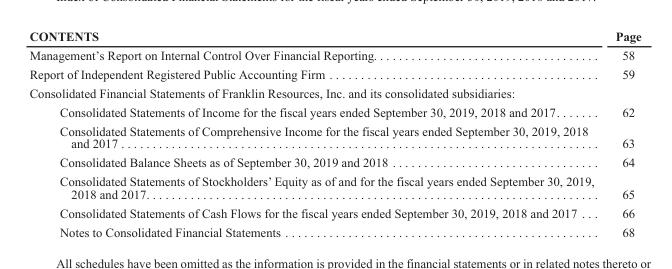table: (28, 28, 640, 238)
table column: (28, 28, 604, 238), (604, 28, 640, 238)
table column header: (28, 28, 640, 45)
table projected row header: (28, 82, 640, 101)
table row: (28, 120, 640, 152), (28, 171, 640, 202), (28, 45, 640, 64), (28, 82, 640, 101), (28, 101, 640, 120), (28, 152, 640, 171), (28, 202, 640, 221), (28, 64, 640, 82), (28, 28, 640, 45), (28, 221, 640, 238)
